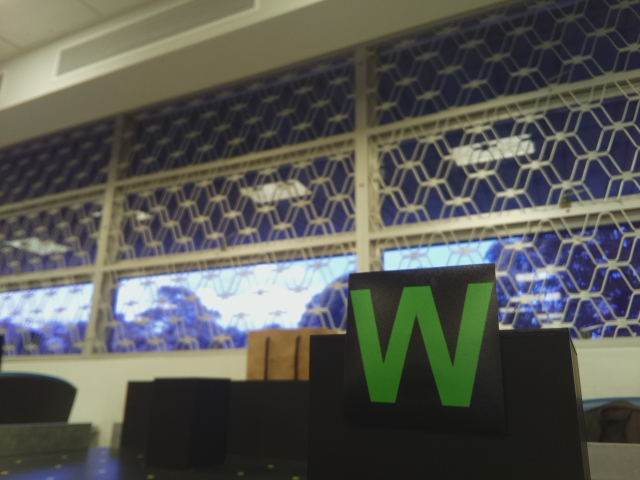w: (350, 284, 498, 412)
